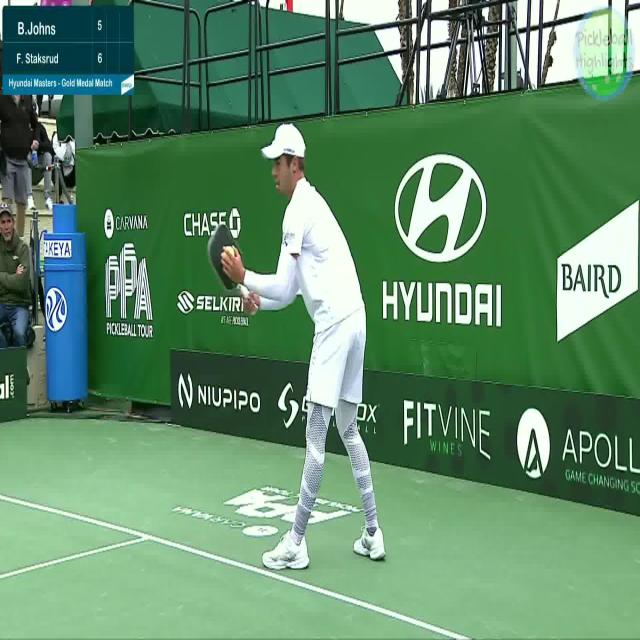ball: (218, 237, 238, 274)
